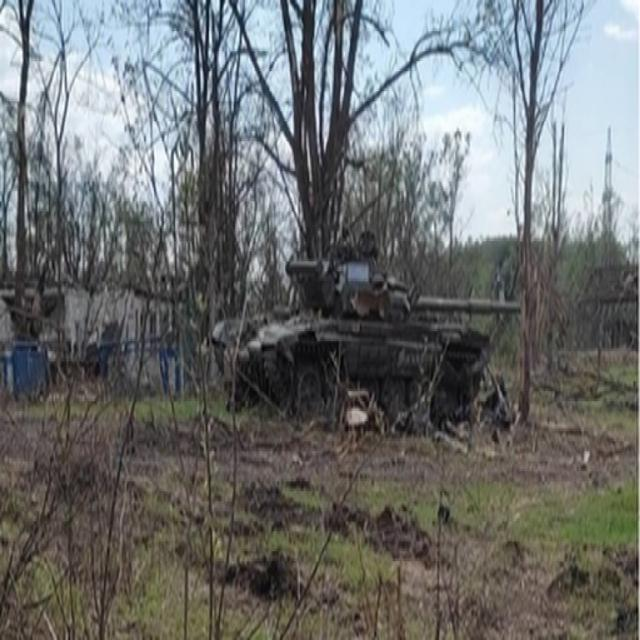TANK: (203, 238, 532, 433)
